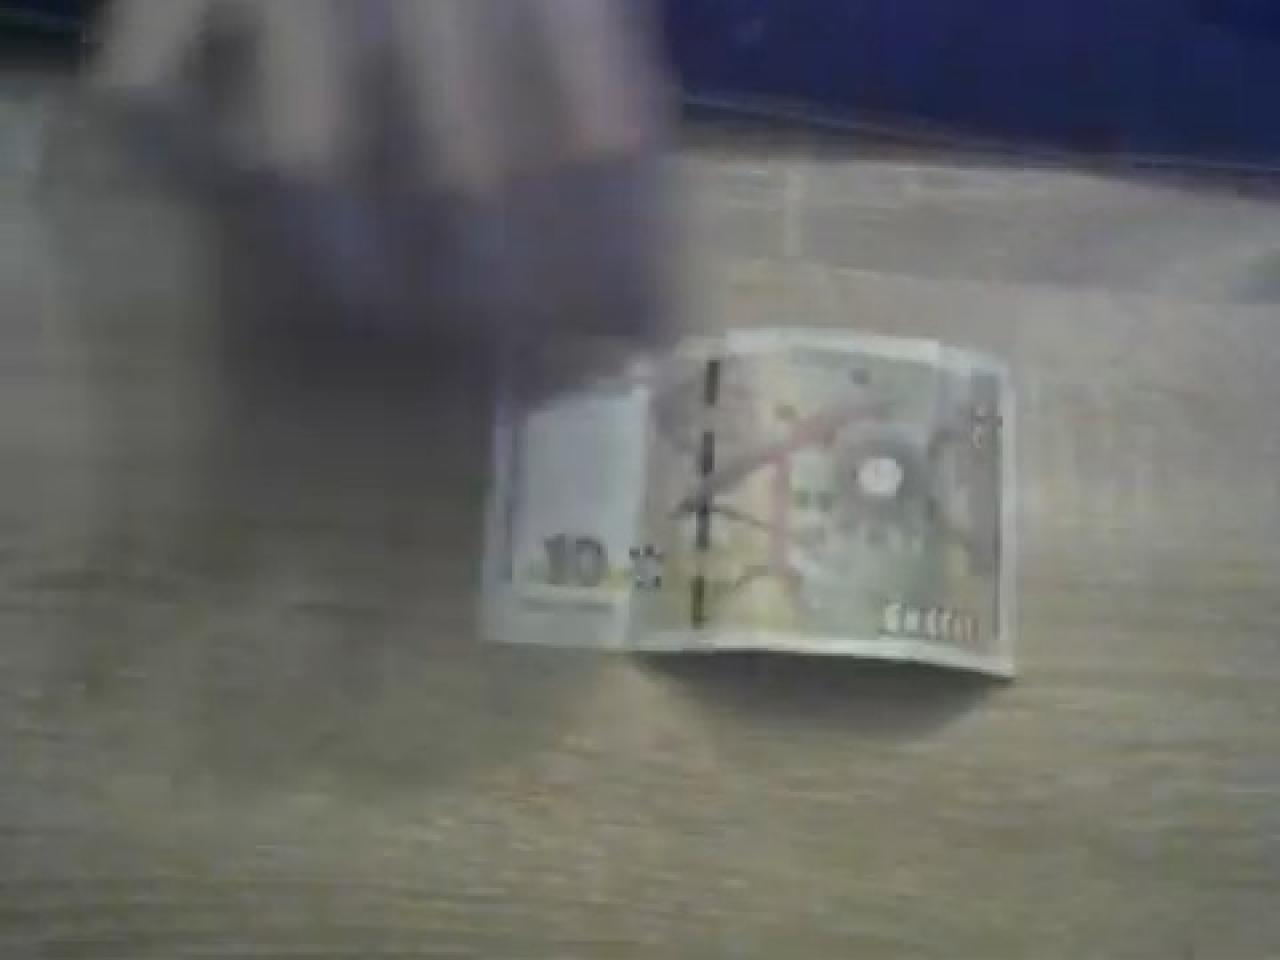10leva: (483, 328, 1032, 680)
